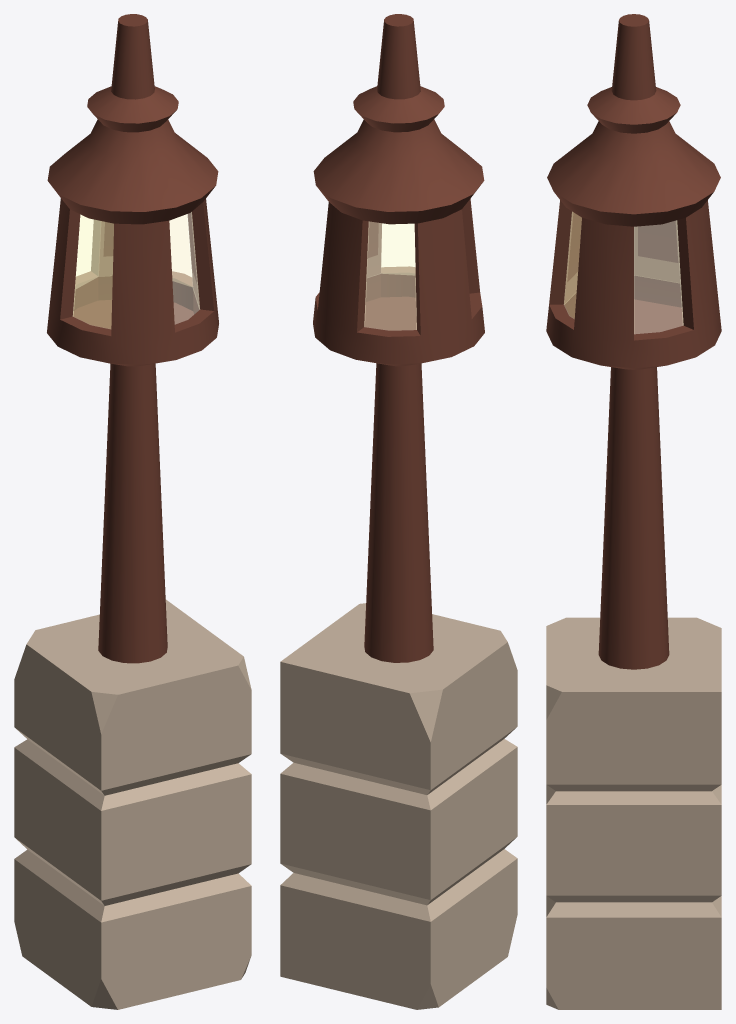
Rendered from StreetLantern-1.glb.
The picture shows the model from 3 angles, left to right: view 1: azimuth 30°, elevation 25°; view 2: azimuth 150°, elevation 25°; view 3: azimuth 270°, elevation 25°; orthographic projection.
Parts seen in each view (by area): view 1: CornerPilar_1-262x262x4.002, Lantern_1-10x2x2.002, Lantern_1-10x2x2.003; view 2: CornerPilar_1-262x262x4.002, Lantern_1-10x2x2.002, Lantern_1-10x2x2.003; view 3: CornerPilar_1-262x262x4.002, Lantern_1-10x2x2.002, Lantern_1-10x2x2.003.
Boxes of the visible parts, <box> form: CornerPilar_1-262x262x4.002: <box>14,599,251,1009</box>; Lantern_1-10x2x2.002: <box>47,14,218,663</box>; Lantern_1-10x2x2.003: <box>73,212,199,328</box>; CornerPilar_1-262x262x4.002: <box>280,603,517,1009</box>; Lantern_1-10x2x2.002: <box>313,14,484,662</box>; Lantern_1-10x2x2.003: <box>364,221,416,330</box>; CornerPilar_1-262x262x4.002: <box>546,617,721,1009</box>; Lantern_1-10x2x2.002: <box>546,14,721,669</box>; Lantern_1-10x2x2.003: <box>564,211,683,333</box>.
Bounding box in the file's own units: 0.6441 × 3.86 × 0.6441.
